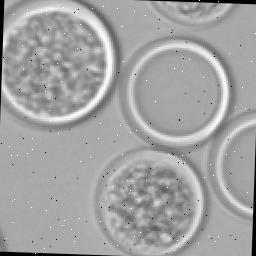picoshell: (1, 0, 117, 126), (119, 37, 234, 148), (93, 149, 203, 255), (207, 110, 255, 218), (148, 1, 232, 24)
